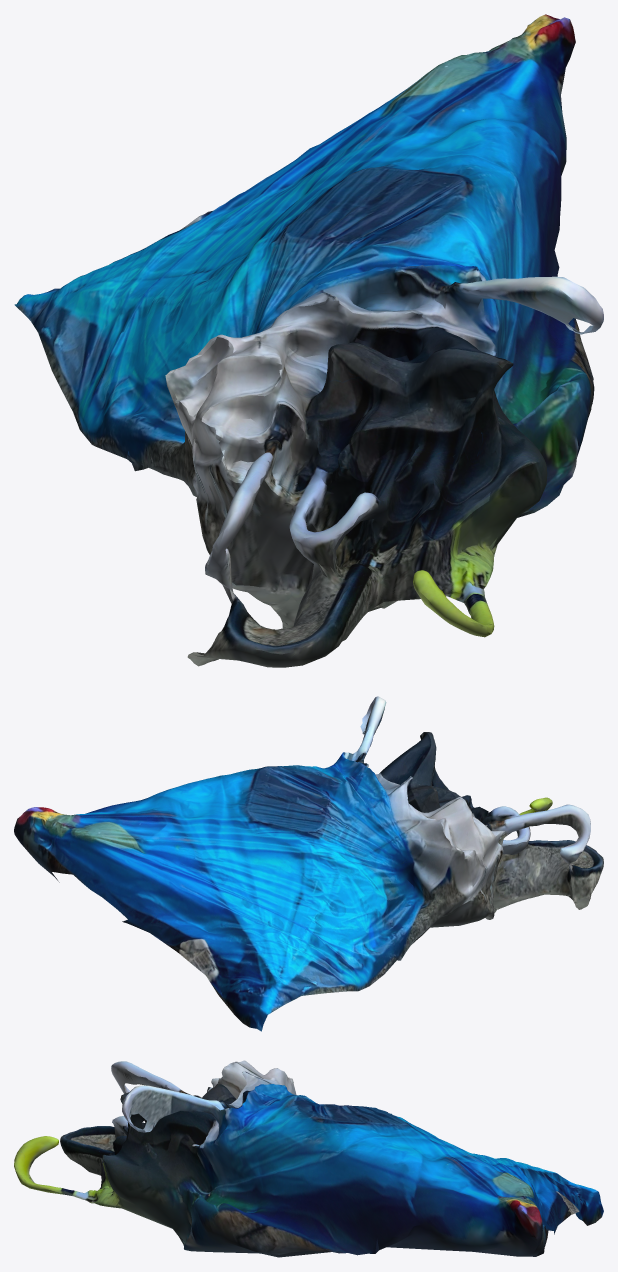
File: umbrella.gltf
The picture shows the model from 3 angles, top to bottom: view 1: azimuth 30°, elevation 25°; view 2: azimuth 150°, elevation 25°; view 3: azimuth 270°, elevation 25°; orthographic projection. The views are drawn at different scales.
Visible parts, largest first — view 1: Default; view 2: Default; view 3: Default.
Boxes of the visible parts, x1,y1,x2,y2 form: Default: (14,14,603,667); Default: (14,696,603,1031); Default: (14,1060,603,1257).
Size of the model in its own units: 0.00576 by 0.0023 by 0.00677.
1 material, 1 textured.
